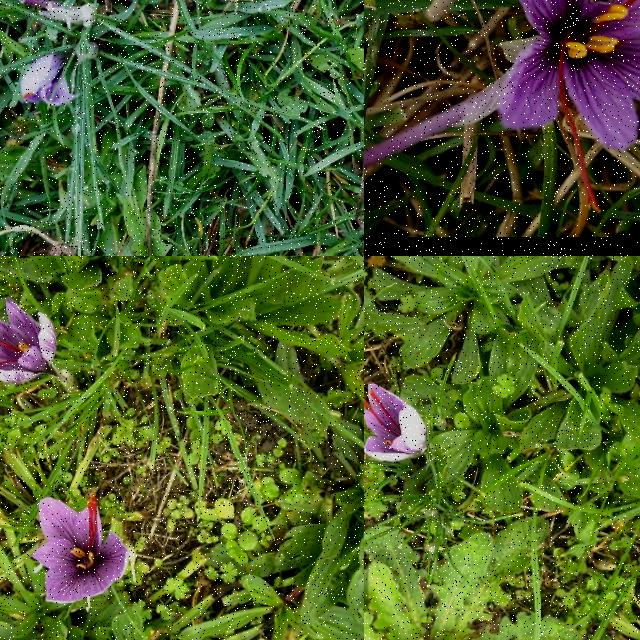flower: (499, 0, 640, 211), (34, 499, 128, 605), (364, 383, 428, 463), (0, 299, 59, 381), (20, 53, 74, 105)
